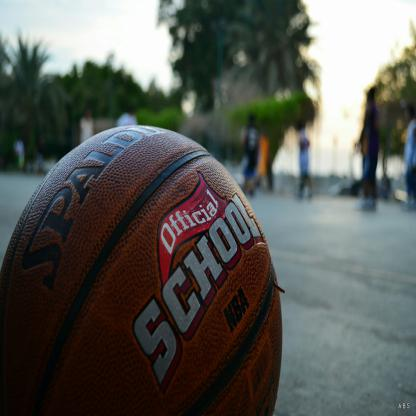Ball: (0, 125, 282, 416)
